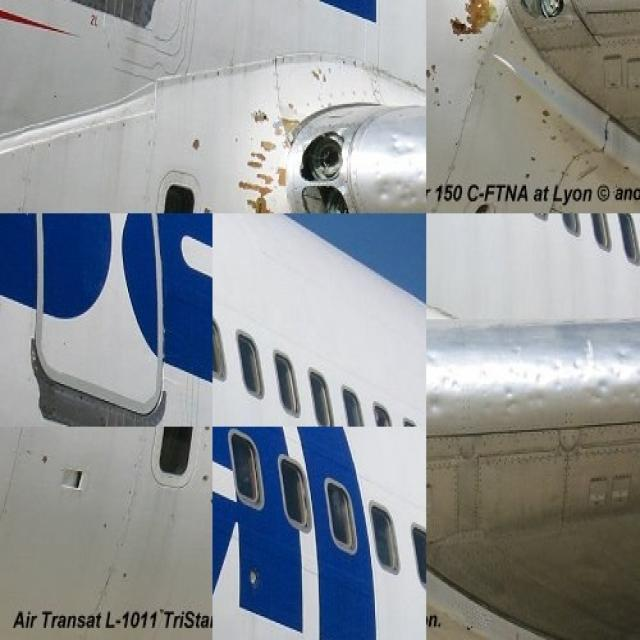dent: (427, 346, 640, 409)
